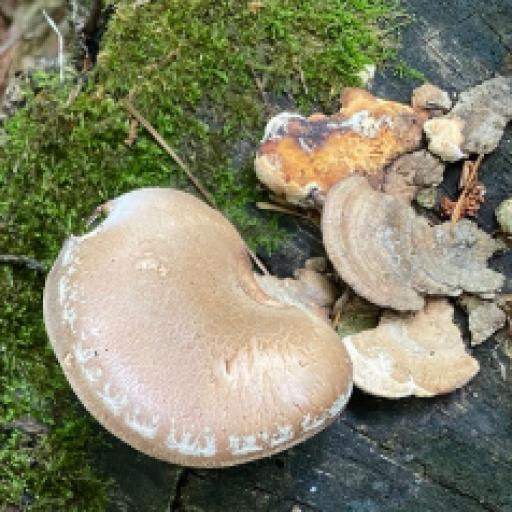Shiitake Mushroom: (12, 166, 360, 512)
